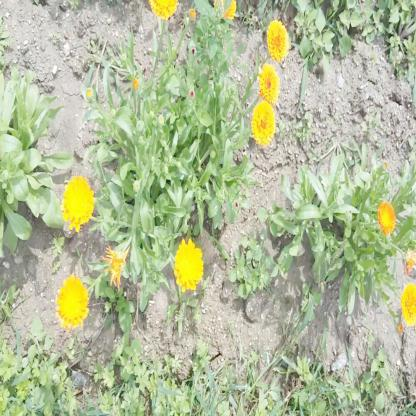marigold: (61, 175, 92, 224), (55, 279, 86, 327), (174, 242, 200, 292), (251, 99, 275, 143), (256, 62, 281, 100), (267, 20, 289, 55), (378, 201, 397, 237), (212, 0, 239, 23), (401, 285, 415, 325)
